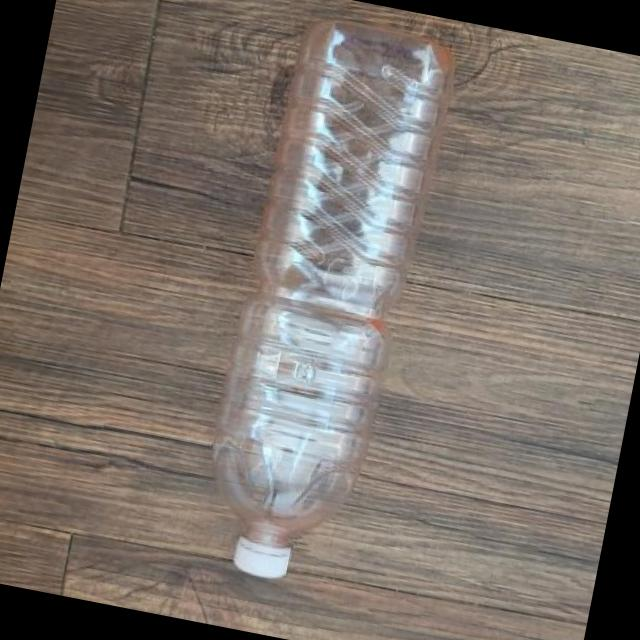plastic_bottle: (192, 9, 464, 596)
